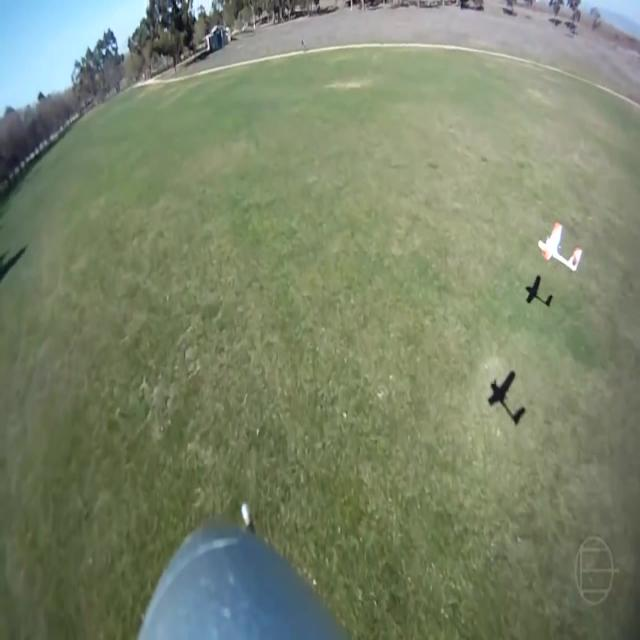iha: (533, 218, 586, 274)
